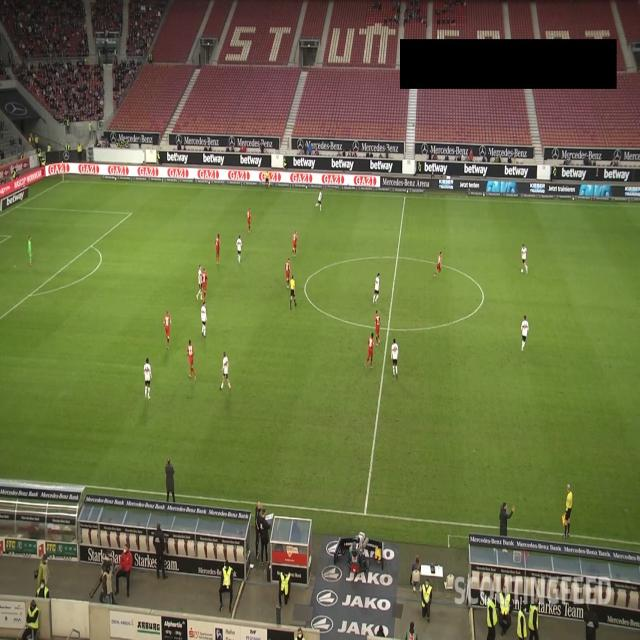ball: (520, 267, 524, 274)
